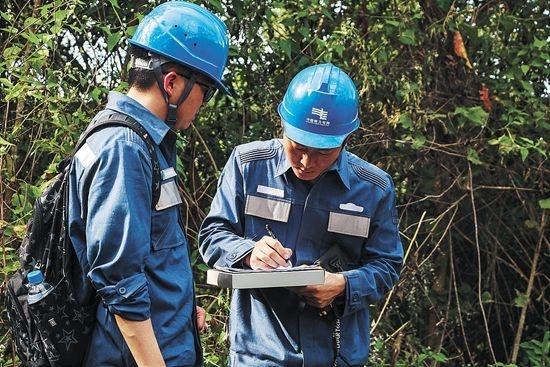blue: (129, 1, 230, 130), (275, 59, 360, 182)
